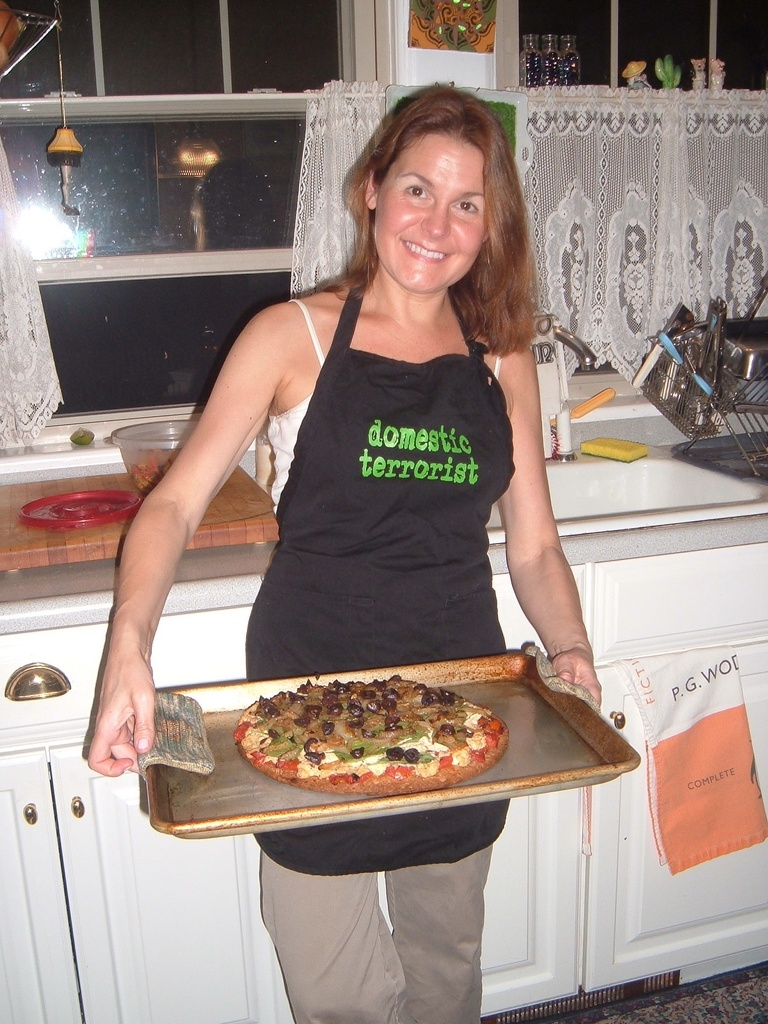Pizza: (236, 667, 517, 798)
